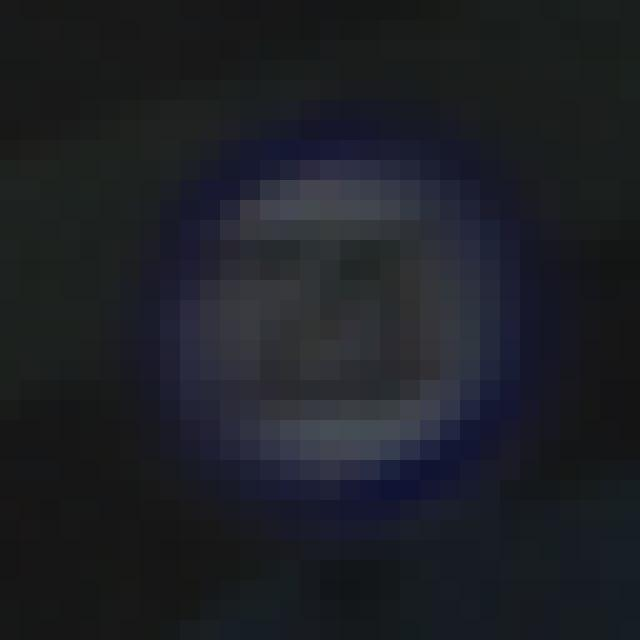SPEED LIMIT 120: (137, 143, 522, 495)
